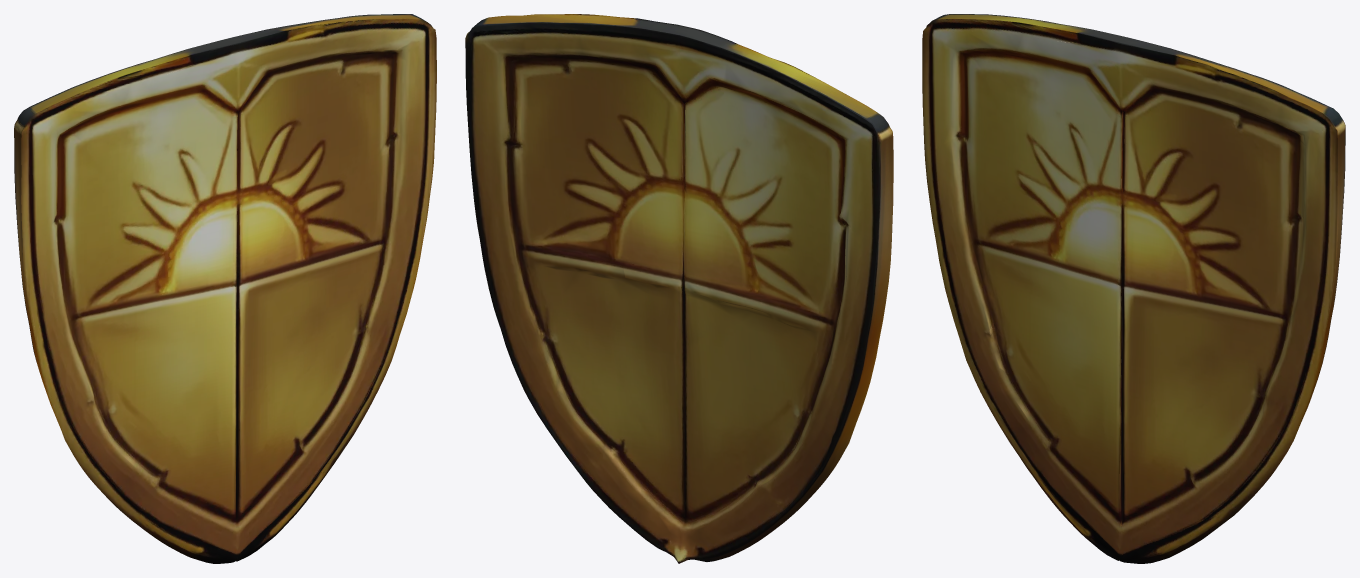
Rendered from dawn_shield.glb.
3 renders of one model, left to right at view 1: azimuth 30°, elevation 25°; view 2: azimuth 150°, elevation 25°; view 3: azimuth 330°, elevation 25°, orthographic.
Visible parts, largest first — view 1: world; view 2: world; view 3: world.
Part boxes in pixels (x1,y1,x2,y2): world: (14, 14, 436, 563); world: (465, 14, 893, 563); world: (922, 14, 1345, 563).
Size of the model in its own units: 0.8362 by 1 by 0.071.
Materials: 1 (1 with a texture image).
